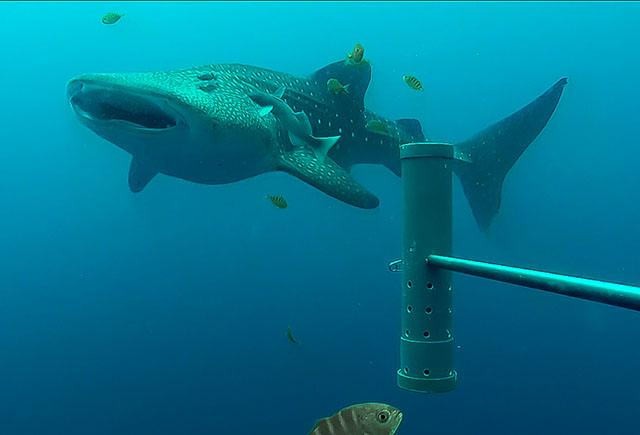Mulut: (49, 60, 191, 154)
Sirip Dada: (263, 128, 389, 220), (112, 147, 166, 203)
Sirip Ekor: (457, 69, 577, 249)
Sirip Punggung: (296, 42, 378, 122)
